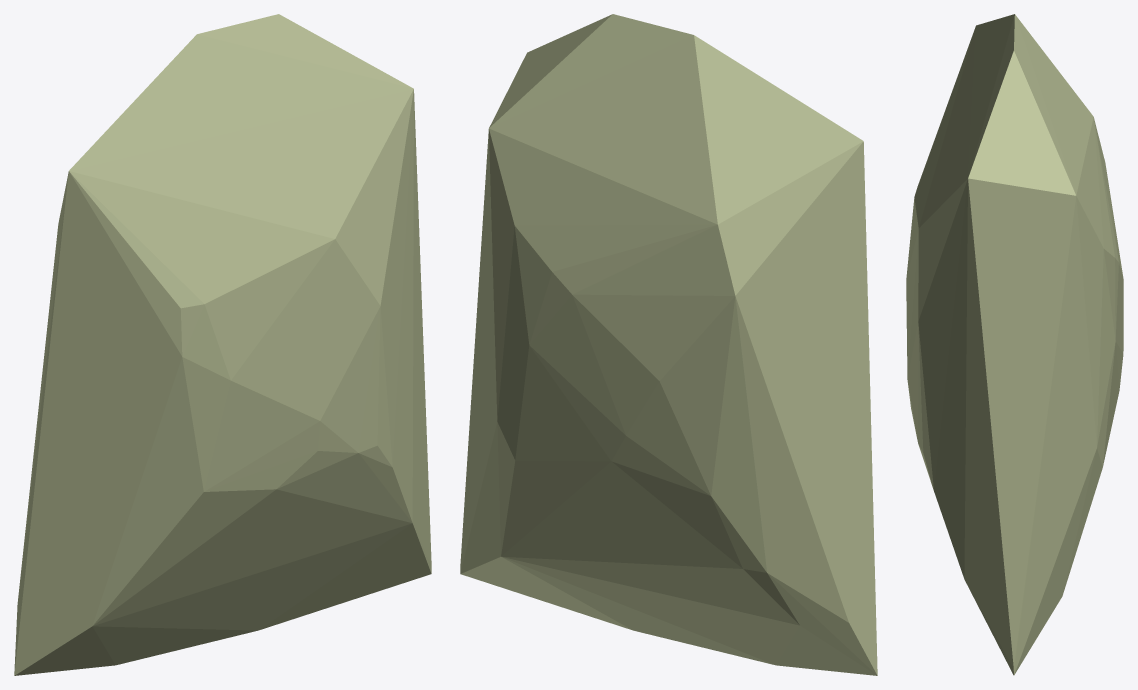
Rendered from food_processed_chips_k01.glb.
The picture shows the model from 3 angles, left to right: view 1: azimuth 30°, elevation 25°; view 2: azimuth 150°, elevation 25°; view 3: azimuth 270°, elevation 25°; orthographic projection. The views are drawn at different scales.
Visible parts, largest first — view 1: geometry_0; view 2: geometry_0; view 3: geometry_0.
Part boxes in pixels (bbox=[...]): geometry_0: bbox=[14, 14, 431, 675]; geometry_0: bbox=[460, 14, 877, 675]; geometry_0: bbox=[906, 14, 1123, 675].
Bounding box in the file's own units: 0.3428 × 0.48 × 0.1661.
